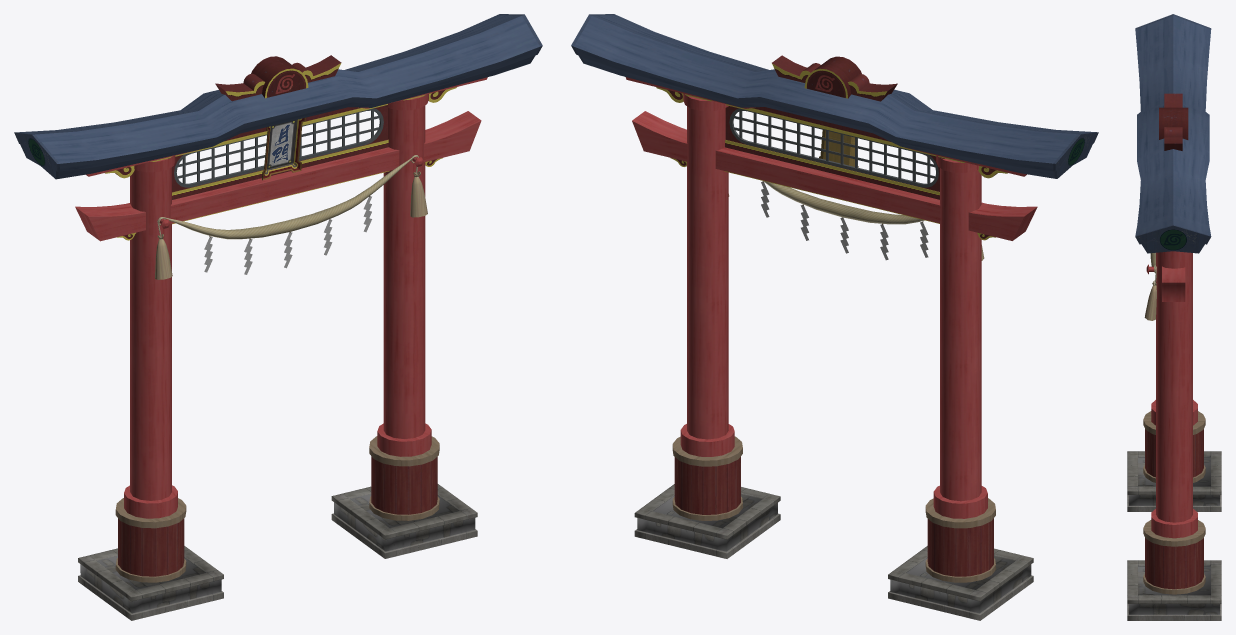
Rendered from SM_ENV_LKNVLD_Torii_Moon.FBX.
3 views of the same model, side by side, from view 1: azimuth 30°, elevation 25°; view 2: azimuth 150°, elevation 25°; view 3: azimuth 270°, elevation 25° (orthographic). The views are drawn at different scales.
Parts seen in each view (by area): view 1: SM_ENV_LKNVLD_Torii_Moon; view 2: SM_ENV_LKNVLD_Torii_Moon; view 3: SM_ENV_LKNVLD_Torii_Moon.
Boxes of the visible parts, x1,y1,x2,y2 form: SM_ENV_LKNVLD_Torii_Moon: (14,14,542,620); SM_ENV_LKNVLD_Torii_Moon: (571,14,1098,620); SM_ENV_LKNVLD_Torii_Moon: (1127,14,1221,620).
Size of the model in its own units: 1361 by 1311 by 256.
